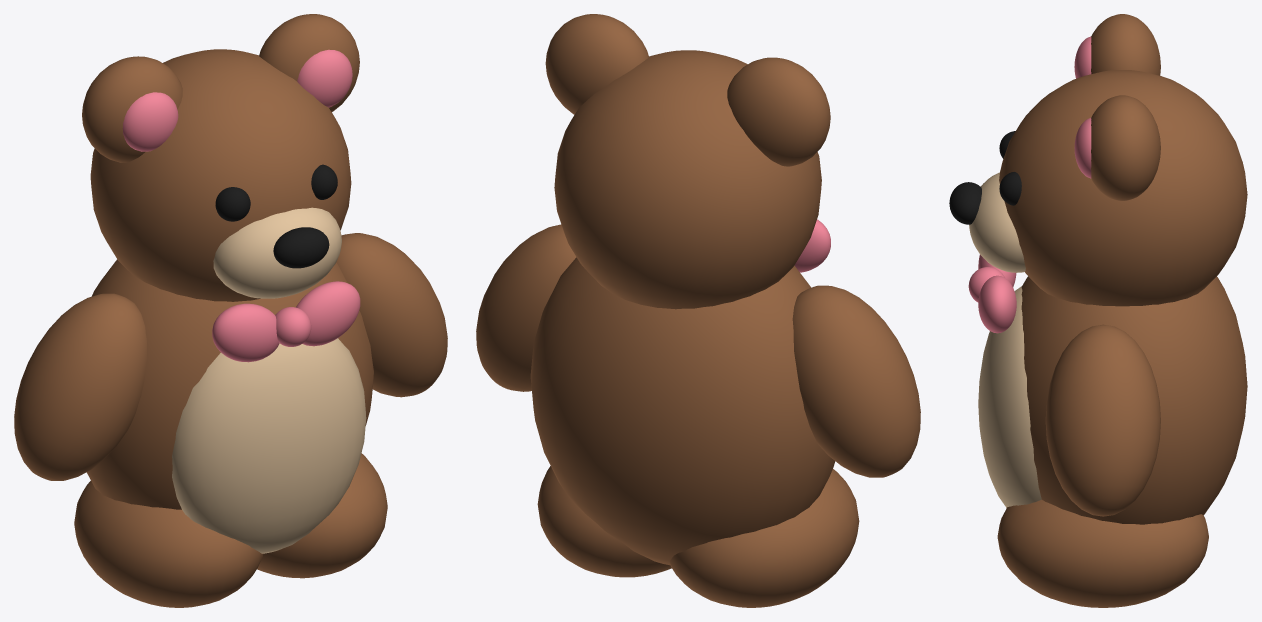
Rendered from teddy-blender.glb.
3 views of the same model, side by side, from view 1: azimuth 30°, elevation 25°; view 2: azimuth 150°, elevation 25°; view 3: azimuth 270°, elevation 25° (orthographic). The views are drawn at different scales.
Visible parts, largest first — view 1: Teddy; view 2: Teddy; view 3: Teddy.
Boxes of the visible parts, x1,y1,x2,y2 form: Teddy: (14, 14, 447, 607); Teddy: (476, 14, 920, 607); Teddy: (949, 14, 1247, 607).
Size of the model in its own units: 0.4823 by 0.585 by 0.31.
